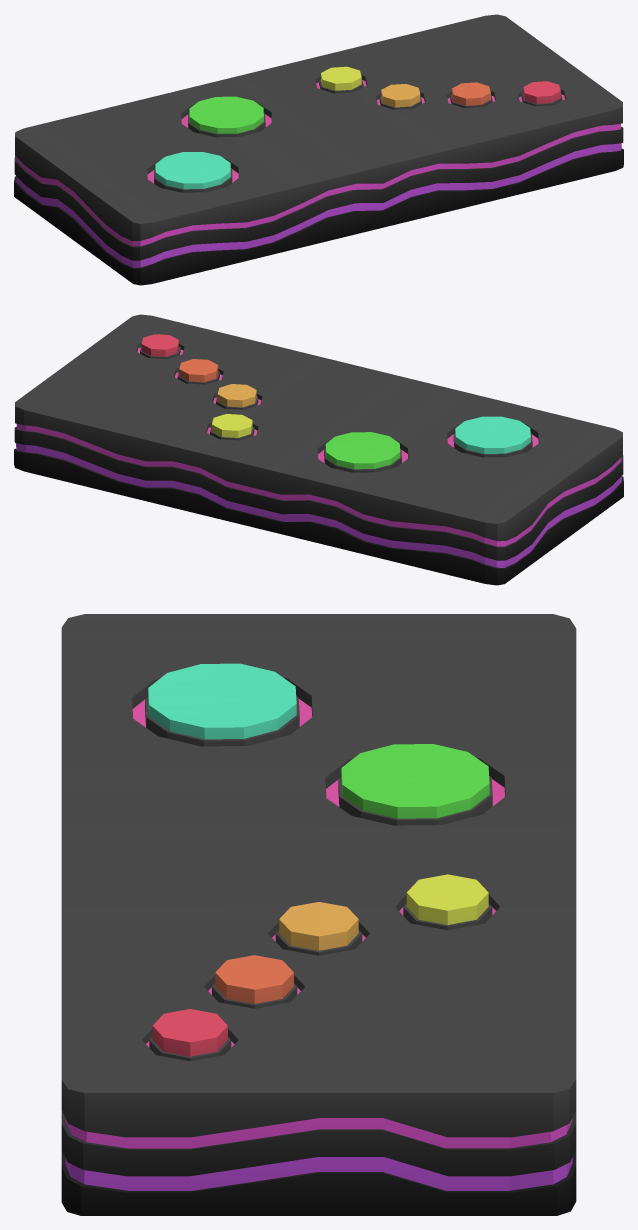
Rendered from SM_Controller.fbx.
The picture shows the model from 3 angles, top to bottom: view 1: azimuth 30°, elevation 25°; view 2: azimuth 150°, elevation 25°; view 3: azimuth 270°, elevation 25°; orthographic projection. The views are drawn at different scales.
Visible parts, largest first — view 1: SM_Controller_01; view 2: SM_Controller_01; view 3: SM_Controller_01.
Boxes of the visible parts, bbox=[...] form: SM_Controller_01: bbox=[14, 14, 623, 285]; SM_Controller_01: bbox=[14, 314, 623, 585]; SM_Controller_01: bbox=[61, 614, 576, 1215].
Bounding box in the file's own units: 62.05 × 8.28 × 28.19.
